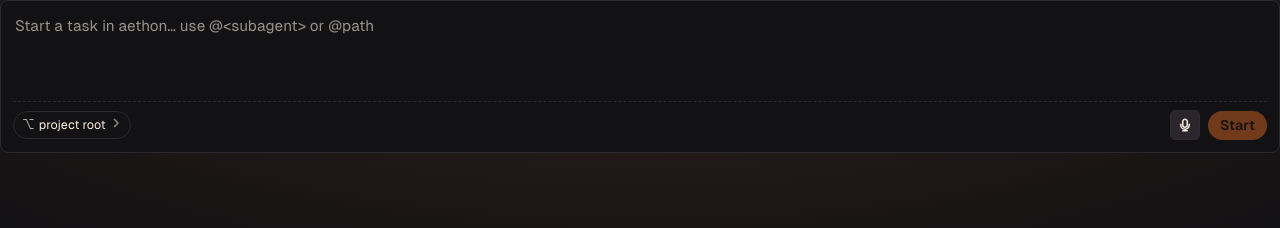
Test: TaskLauncher › offers leading subagent completions rooted at the project
Step 1. Type "@ki" into the text box named "Task prompt" → (640, 49), box [13,13,1267,85]
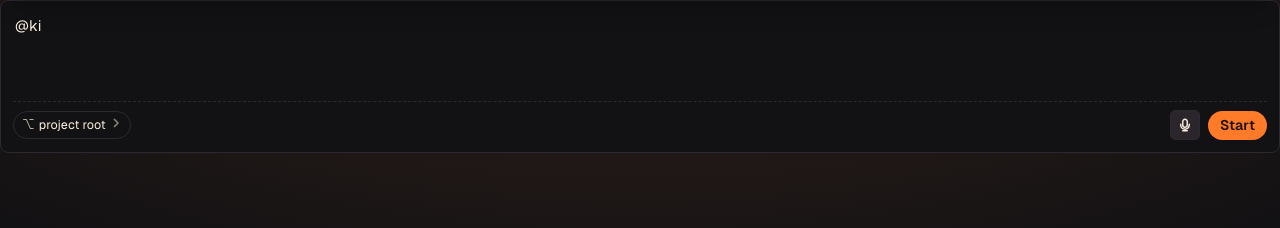
Step 2. Press Tab in the text box named "Task prompt", box [13,13,1267,85]
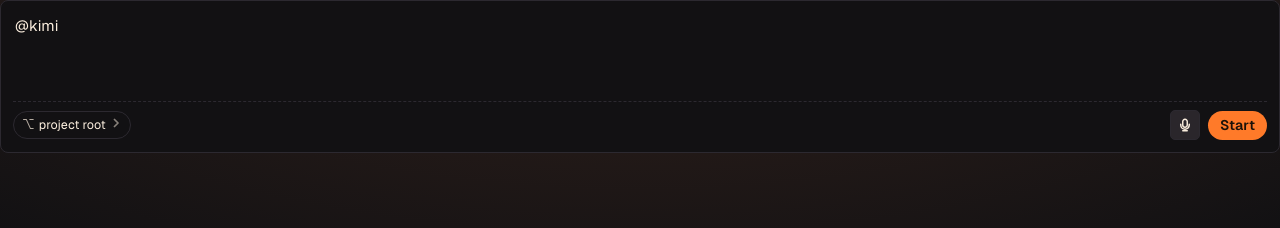
Expected: the text box named "Task prompt" holds "@kimi ", [13,13,1267,85]
